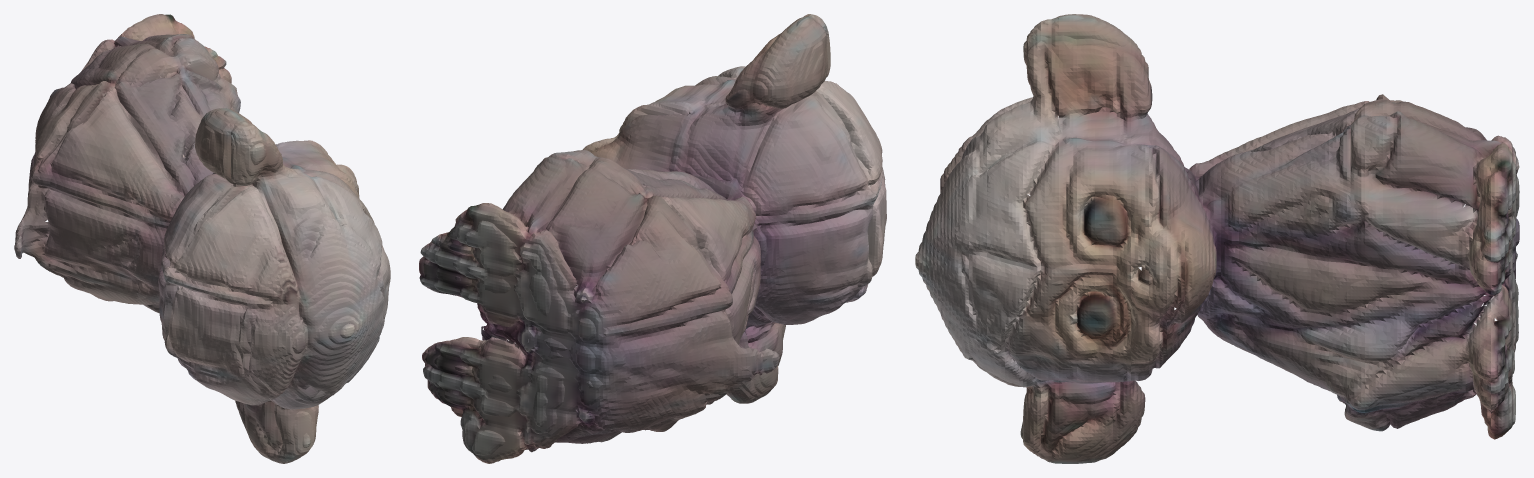
Rendered from coin.glb.
3 views of the same model, side by side, from view 1: azimuth 30°, elevation 25°; view 2: azimuth 150°, elevation 25°; view 3: azimuth 270°, elevation 25° (orthographic). The views are drawn at different scales.
Visible parts, largest first — view 1: world; view 2: world; view 3: world.
Part boxes in pixels (<box>): world: <box>14,14,390,463</box>; world: <box>419,14,886,463</box>; world: <box>915,14,1519,463</box>.
Bounding box in the file's own units: 0.5594 × 0.7024 × 0.9128.
